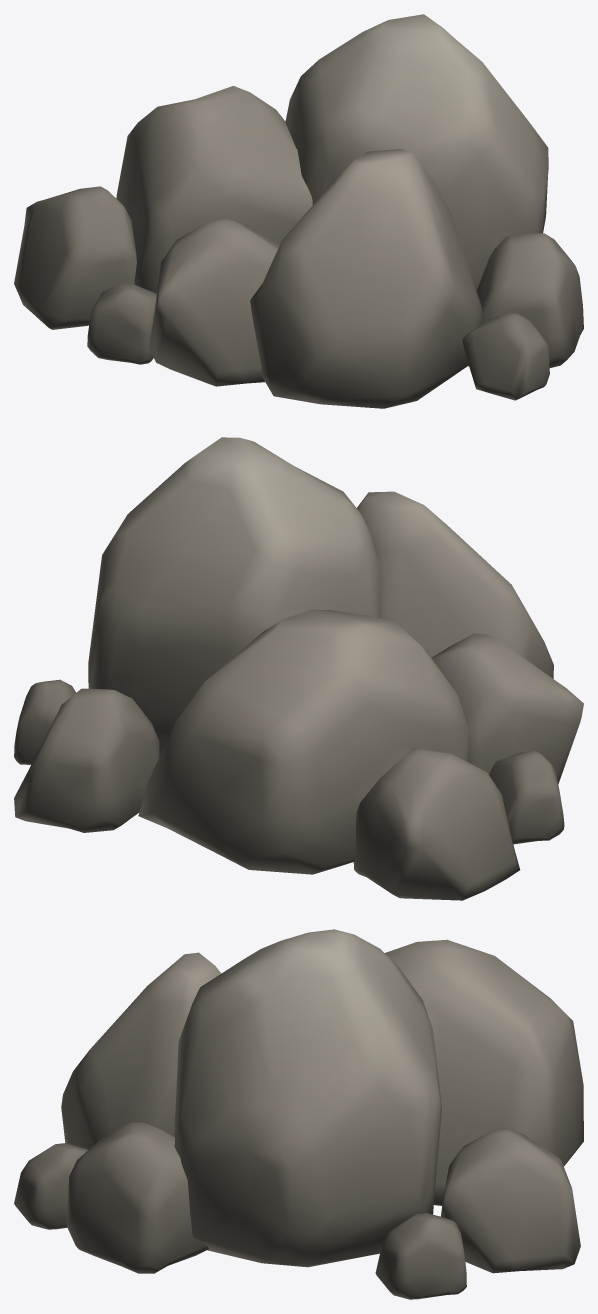
The model's file is rockNode2.fbx.
3 views of the same model, one above another, from view 1: azimuth 30°, elevation 25°; view 2: azimuth 150°, elevation 25°; view 3: azimuth 270°, elevation 25° (orthographic). The views are drawn at different scales.
Visible parts, largest first — view 1: rockNode2_low; view 2: rockNode2_low; view 3: rockNode2_low.
Boxes of the visible parts, x1=… form: rockNode2_low: x1=14, y1=14, x2=583, y2=408; rockNode2_low: x1=14, y1=437, x2=583, y2=900; rockNode2_low: x1=14, y1=929, x2=583, y2=1299.
Bounding box in the file's own units: 220 × 125 × 221.
1 material, 1 textured.
